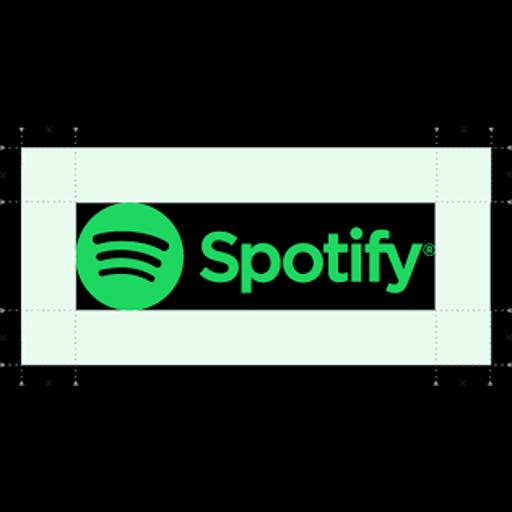Spotify: (0, 126, 512, 386)
